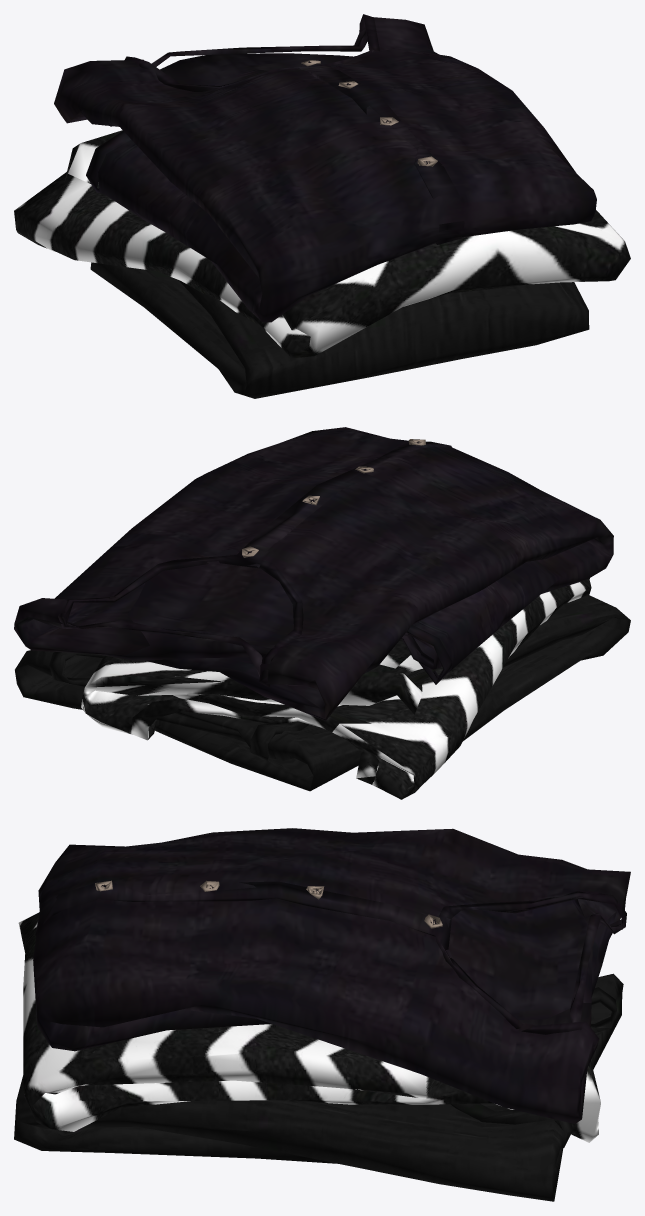
Rendered from hvfold_Clothes_acc_01.glb.
3 renders of one model, top to bottom at view 1: azimuth 30°, elevation 25°; view 2: azimuth 150°, elevation 25°; view 3: azimuth 270°, elevation 25°, orthographic. The views are drawn at different scales.
Visible parts, largest first — view 1: BP_Clothes_acc_01; view 2: BP_Clothes_acc_01; view 3: BP_Clothes_acc_01.
Part boxes in pixels (bbox=[...]): BP_Clothes_acc_01: bbox=[14, 14, 630, 398]; BP_Clothes_acc_01: bbox=[14, 427, 630, 799]; BP_Clothes_acc_01: bbox=[14, 828, 630, 1201].
Size of the model in its own units: 0.3154 by 0.1331 by 0.3465.
Materials: 4 (3 with a texture image).
